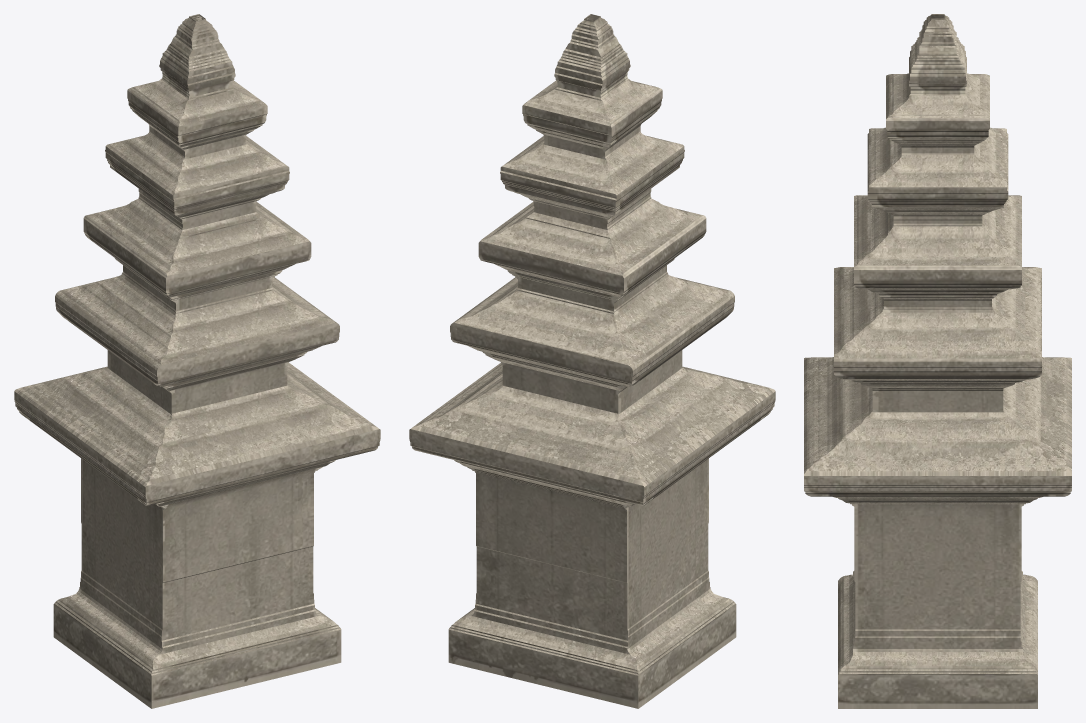
File: pagoda.glb
3 views of the same model, side by side, from view 1: azimuth 30°, elevation 25°; view 2: azimuth 150°, elevation 25°; view 3: azimuth 270°, elevation 25° (orthographic). The views are drawn at different scales.
Visible parts, largest first — view 1: StonePagoda; view 2: StonePagoda; view 3: StonePagoda.
Part boxes in pixels (box(x1,y1,x2,y2)): StonePagoda: box(14, 14, 380, 708); StonePagoda: box(409, 14, 775, 708); StonePagoda: box(804, 14, 1071, 708).
Bounding box in the file's own units: 0.8921 × 2.29 × 0.8627.
1 material, 1 textured.
